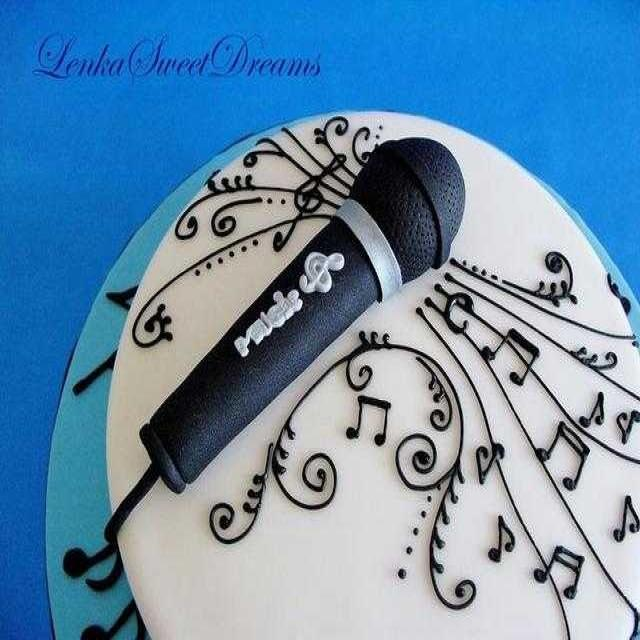microphone: (141, 126, 490, 478)
